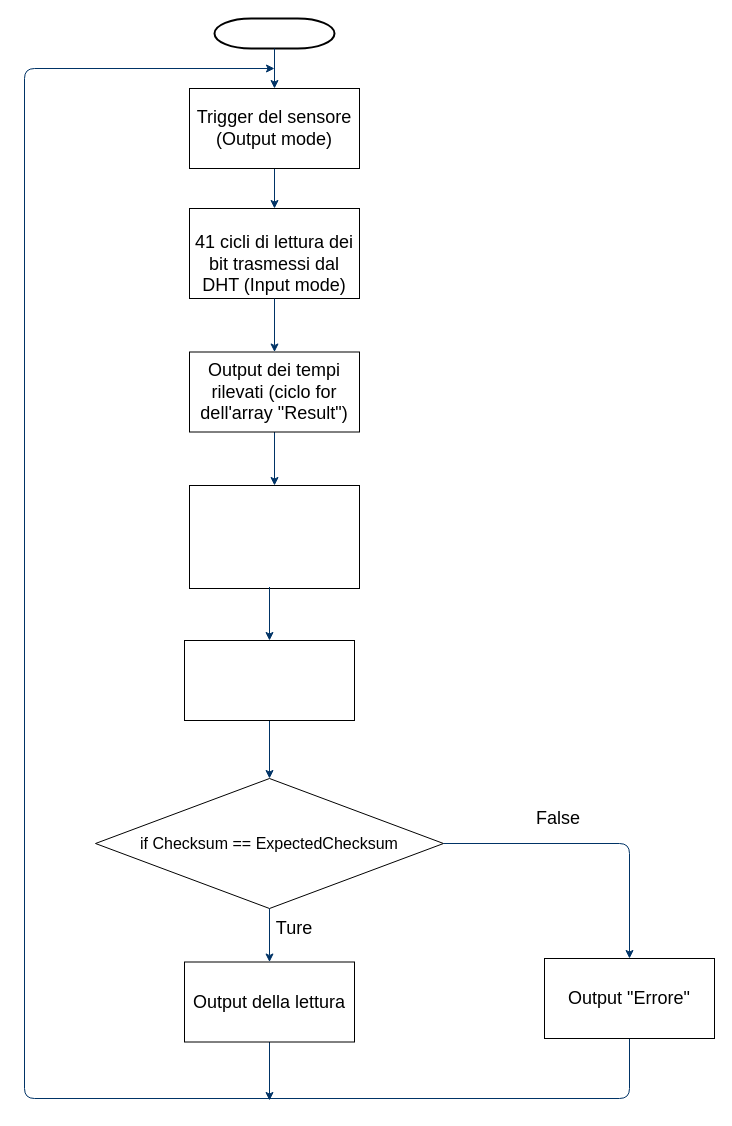
The diagram is 732 pixels wide and 1126 high, and some of its shapes have lost their labels. Here are the shapes that lost their labels. From the top down, the centre of each, then its label:
(x=274, y=33): start
(x=274, y=536): Riassegnamento dell'array "Result" in "0" e "1" a seconda dei tempi rilevati
(x=269, y=680): Ciclo for annidato e utilizzo della funzione bitWrite();
